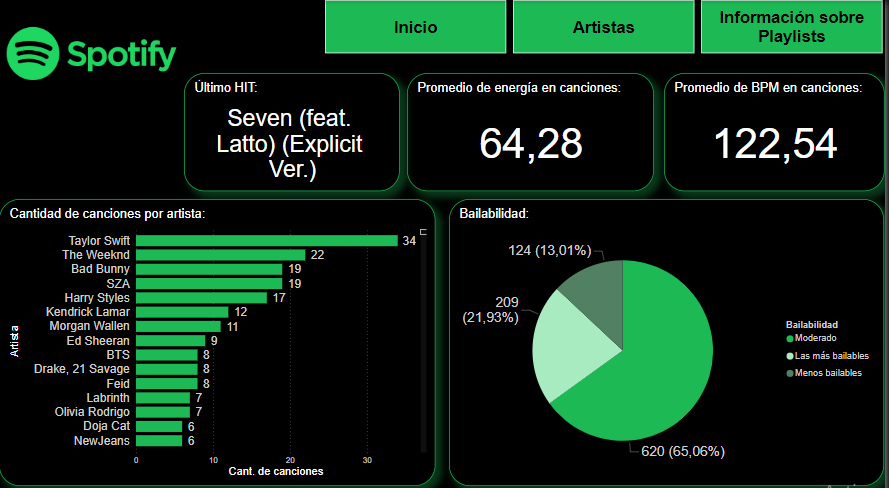

What the dashboard file says about the page in this screenshot:
{"tool":"powerbi","page":{"name":"Especificaciones de canciones","canvas":[1280,720],"ordinal":2},"visuals":[{"type":"card","title":"Promedio de BPM en canciones","fields":{"Values":["Metricas.AvgBPM"]},"box":[960.9,104.9,318.9,171.5],"z":0},{"type":"card","title":"Promedio de energía en canciones","fields":{"Values":["Metricas.AvgEnergyPerSong"]},"box":[589.6,104.9,357.2,171.5],"z":1000},{"type":"pieChart","title":"Bailabilidad","fields":{"Category":["SongEsp.Dance_top"],"Y":["CountNonNull(SongEsp.track_id)"]},"box":[650.6,287.7,629.3,415.3],"z":2000},{"type":"card","title":"Último HIT:","fields":{"Values":["Metricas.Canción mas reciente"]},"box":[267.9,104.9,311.8,171.5],"z":3000},{"type":"image","box":[0,0,267.4,155.5],"z":4000},{"type":"clusteredBarChart","title":"Cantidad de canciones por artista","fields":{"Category":["Artists.artists_name"],"Y":["Metricas.CancionesPorArtista"]},"box":[0,287.7,630.7,415.3],"z":5000},{"type":"pageNavigator","box":[471.9,0,808.1,77.8],"z":6000}]}

Visuals, with their boxes in screenshot pixels (x1, y1, x2, y2), scaled from the page's 1280x720 canvas onto the 889x488 screenshot:
"Promedio de BPM en canciones" card: 667 71 888 187
"Promedio de energía en canciones" card: 409 71 658 187
"Bailabilidad" pieChart: 452 195 888 476
"Último HIT:" card: 186 71 403 187
image: 0 0 186 105
"Cantidad de canciones por artista" clusteredBarChart: 0 195 438 476
pageNavigator: 328 0 888 53
